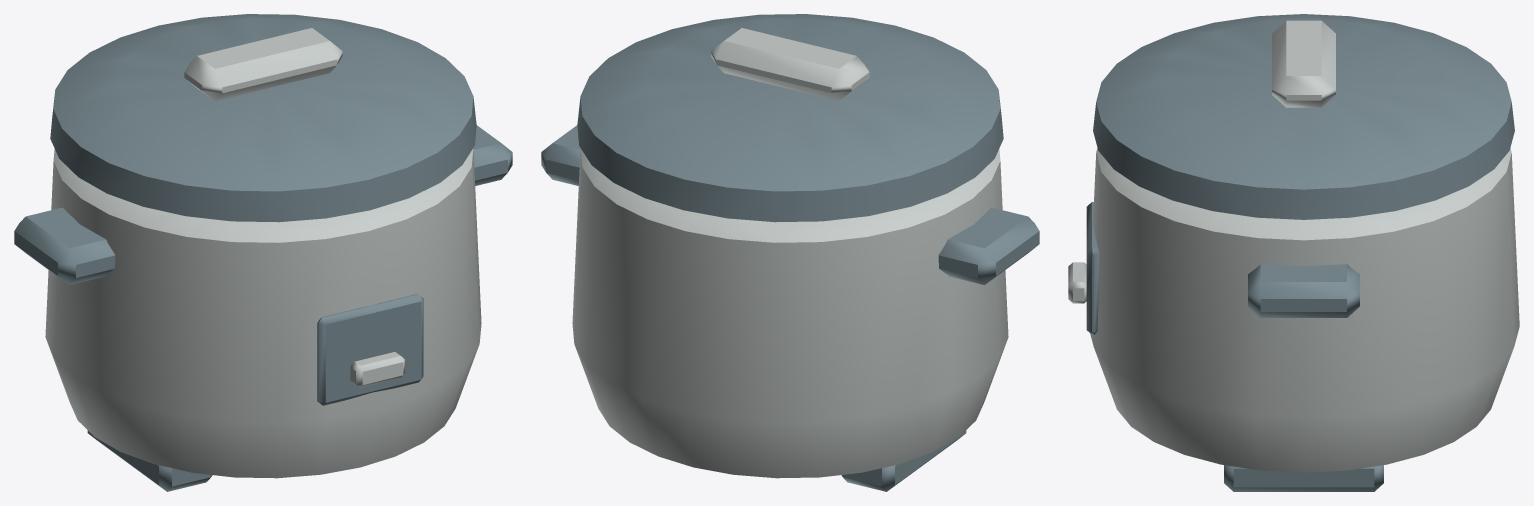
Rendered from rice-cooker.glb.
3 views of the same model, side by side, from view 1: azimuth 30°, elevation 25°; view 2: azimuth 150°, elevation 25°; view 3: azimuth 270°, elevation 25° (orthographic).
Parts seen in each view (by area): view 1: cooker_body, lid, control_panel, lid_handle, side_handle, side_handle.001, foot, cook_switch; view 2: cooker_body, lid, lid_handle, side_handle, side_handle.001, foot; view 3: cooker_body, lid, side_handle.001, lid_handle, foot.001, control_panel, cook_switch.
Part boxes in pixels (x1,y1,x2,y2): cooker_body: [45, 148, 481, 478]; lid: [50, 14, 476, 222]; control_panel: [317, 293, 423, 405]; lid_handle: [184, 28, 342, 100]; side_handle: [14, 207, 115, 284]; side_handle.001: [473, 125, 512, 185]; foot: [87, 430, 212, 491]; cook_switch: [350, 352, 404, 387]; cooker_body: [572, 148, 1008, 478]; lid: [577, 14, 1003, 222]; lid_handle: [711, 28, 869, 100]; side_handle: [938, 207, 1039, 284]; side_handle.001: [541, 125, 580, 185]; foot: [841, 430, 966, 491]; cooker_body: [1090, 148, 1519, 472]; lid: [1093, 14, 1514, 219]; side_handle.001: [1248, 264, 1359, 317]; lid_handle: [1272, 20, 1335, 107]; foot.001: [1224, 465, 1383, 491]; control_panel: [1086, 202, 1099, 334]; cook_switch: [1068, 262, 1086, 303].
Size of the model in its own units: 0.324 by 0.2625 by 0.2825.
